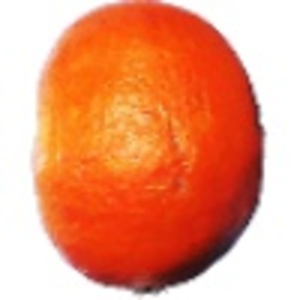tangerina: (28, 1, 267, 298)
